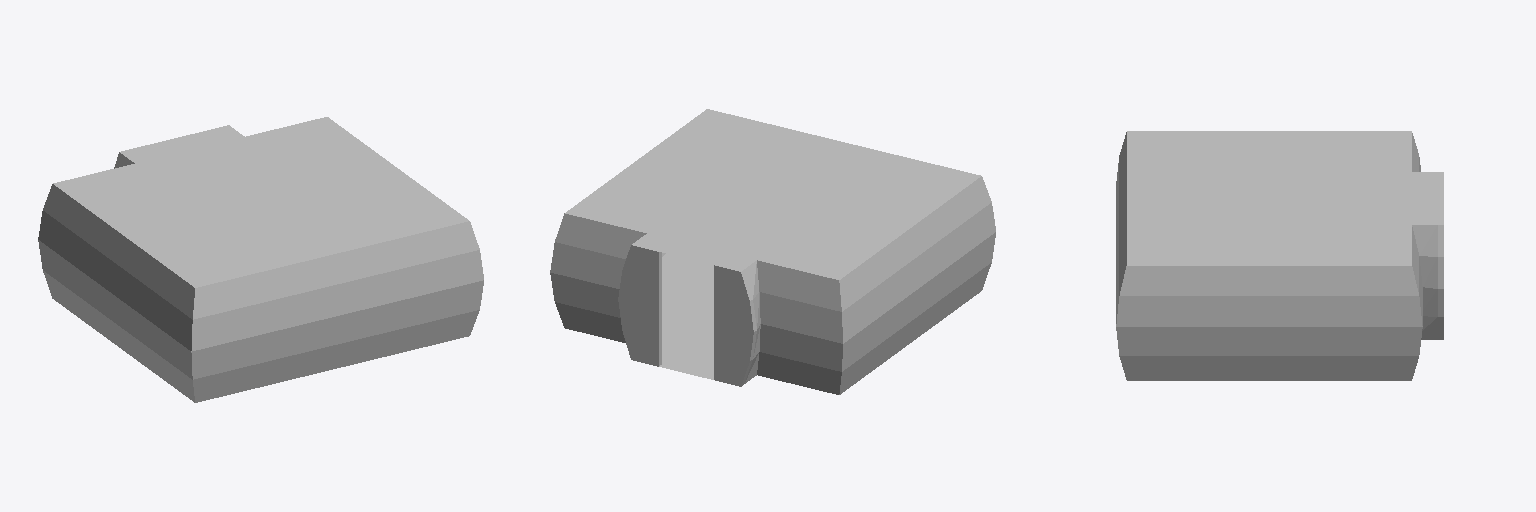
The model's file is Room.obj.
3 views of the same model, side by side, from view 1: azimuth 30°, elevation 25°; view 2: azimuth 150°, elevation 25°; view 3: azimuth 270°, elevation 25° (orthographic).
Visible parts, largest first — view 1: Plane; view 2: Plane; view 3: Plane.
Boxes of the visible parts, <box> form: Plane: <box>38,117,483,402</box>; Plane: <box>550,109,995,394</box>; Plane: <box>1116,131,1443,380</box>.
Size of the model in its own units: 5.33 by 2 by 5.17.